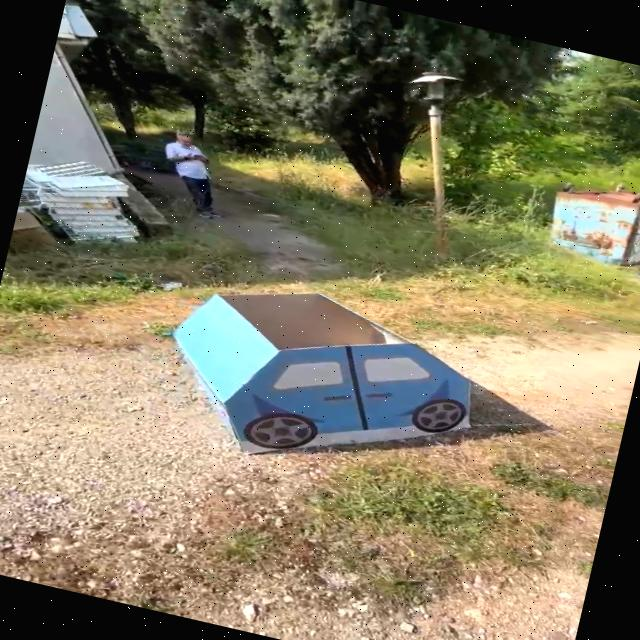blue_car: (124, 246, 525, 520)
